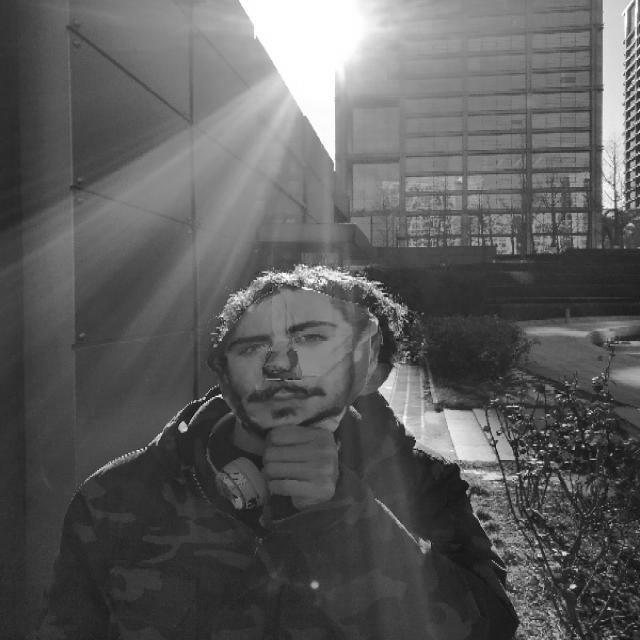fake: (214, 270, 398, 448)
